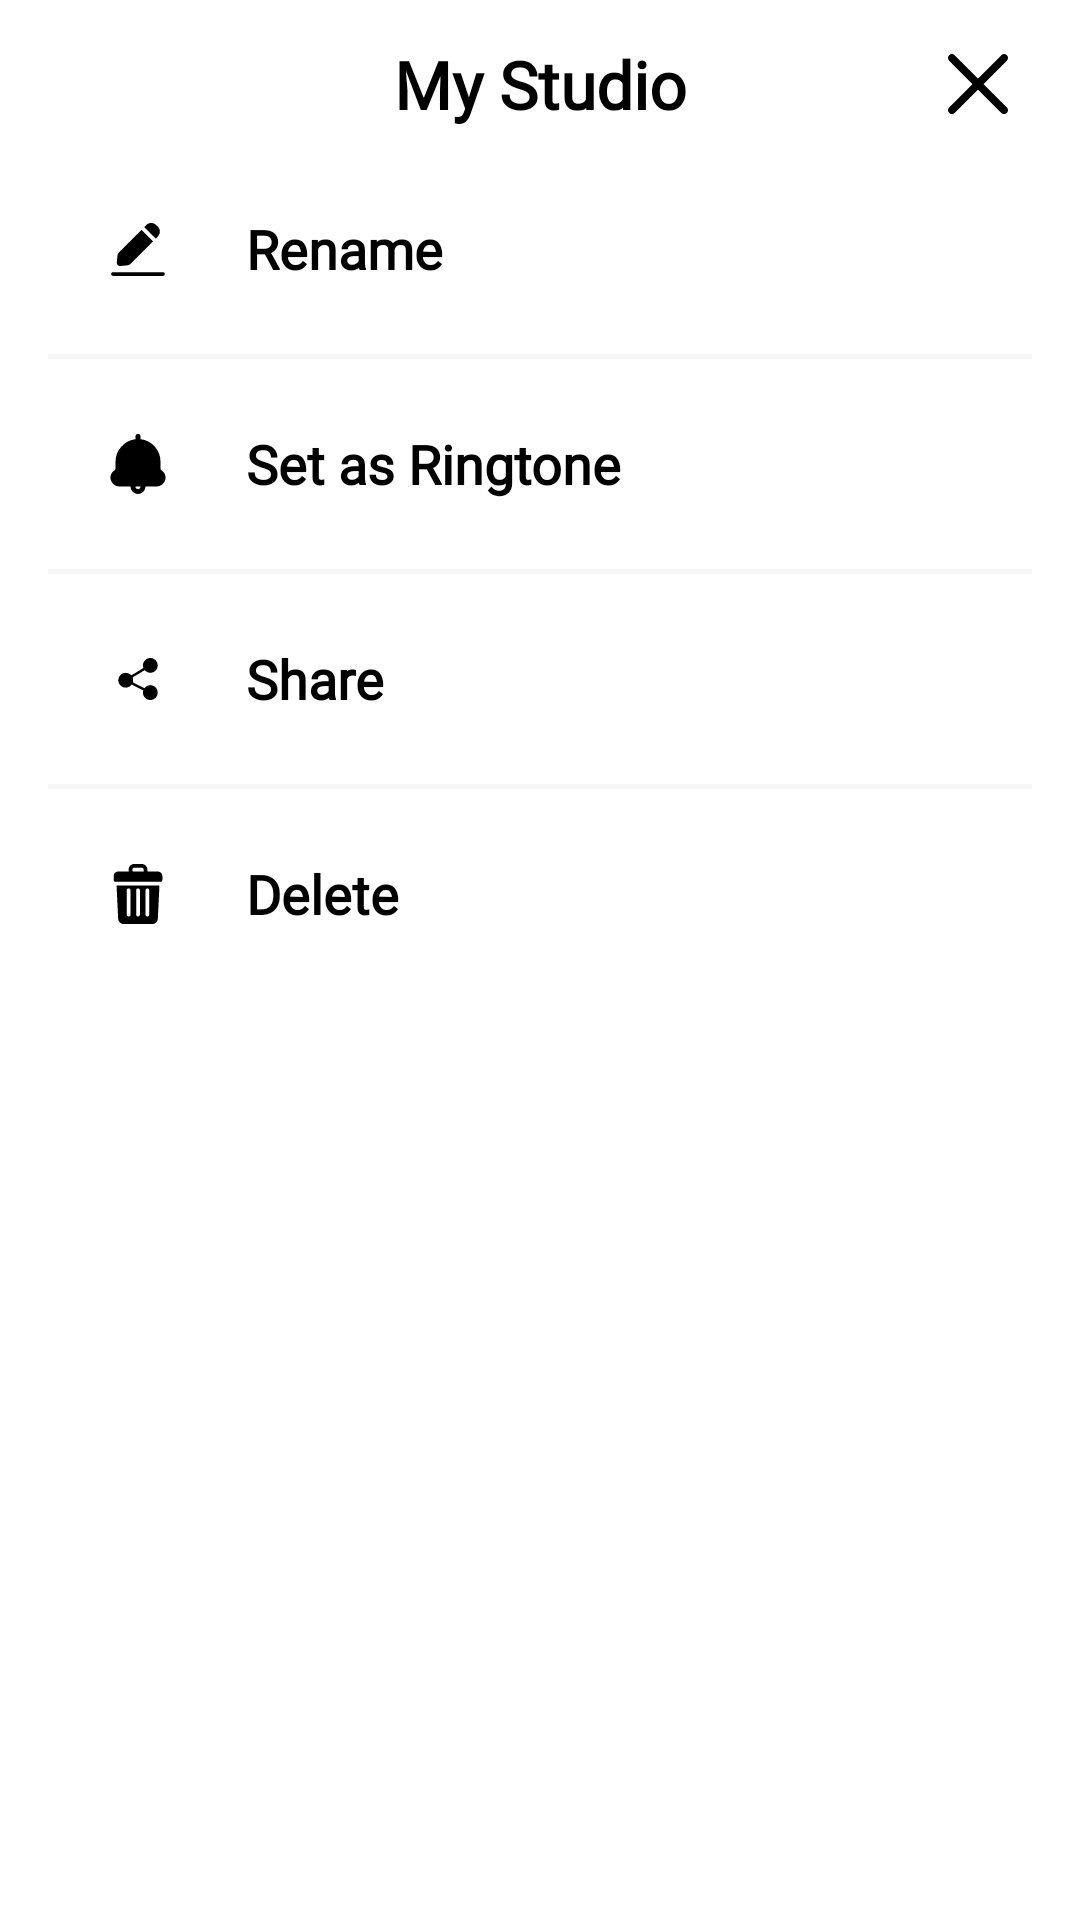

Named icons in this screenshot (1080px×1920px) and their centers, (x,y):
close: (978,84)
